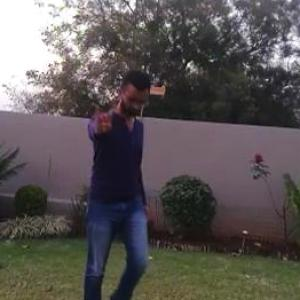takeoff-hand: (85, 90, 118, 134)
